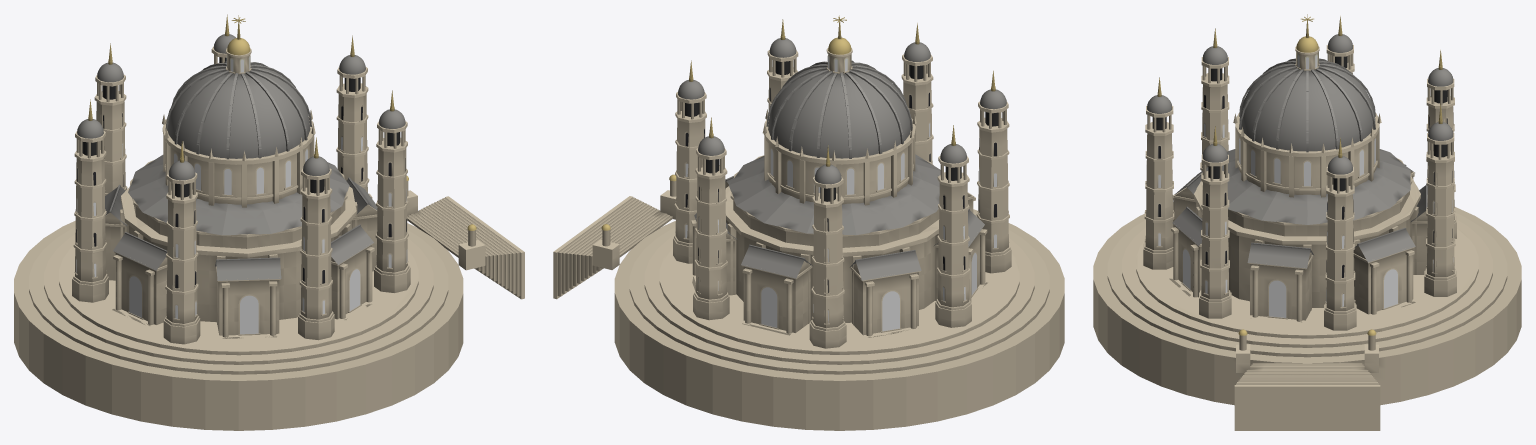
Rendered from sept.glb.
3 views of the same model, side by side, from view 1: azimuth 30°, elevation 25°; view 2: azimuth 150°, elevation 25°; view 3: azimuth 270°, elevation 25° (orthographic). The views are drawn at different scales.
Visible parts, largest first — view 1: sept; view 2: sept; view 3: sept.
Boxes of the visible parts, x1=… form: sept: x1=14, y1=14, x2=524, y2=430; sept: x1=553, y1=15, x2=1064, y2=430; sept: x1=1093, y1=14, x2=1521, y2=430.
Size of the model in its own units: 204 by 142 by 179.
